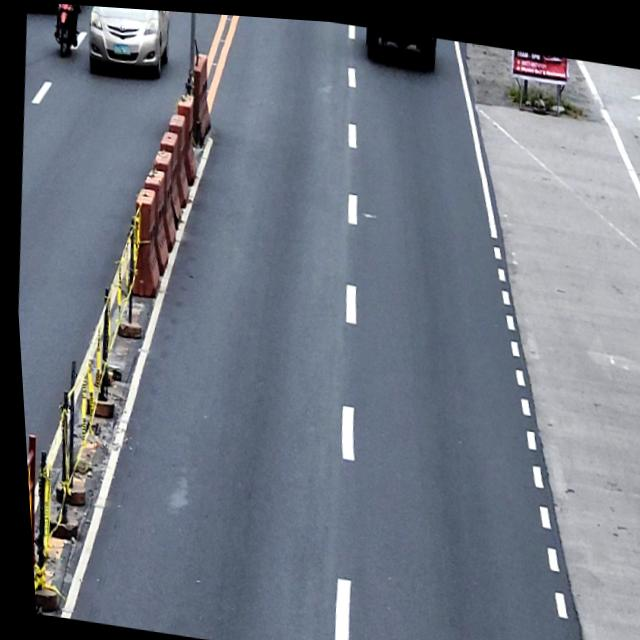Car: (78, 4, 173, 78), (26, 1, 89, 15)
License-Plate: (112, 41, 131, 54)
Motorcycle: (50, 3, 84, 58)
